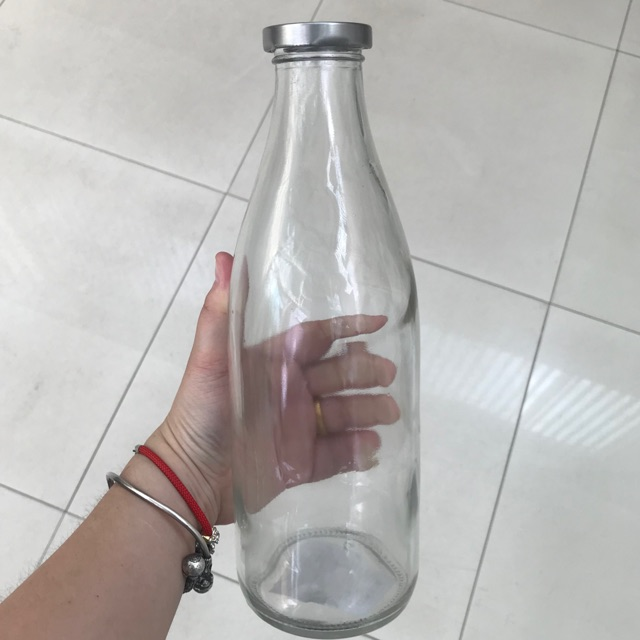glass_bottle: (225, 12, 432, 639)
